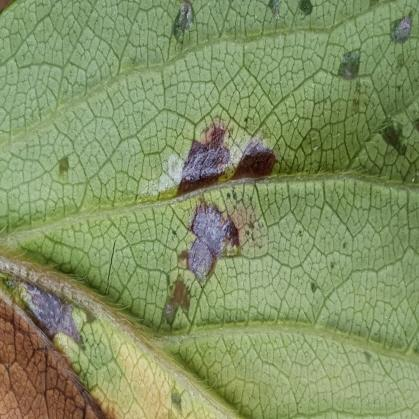Angular Leafspot: (0, 0, 418, 418)
